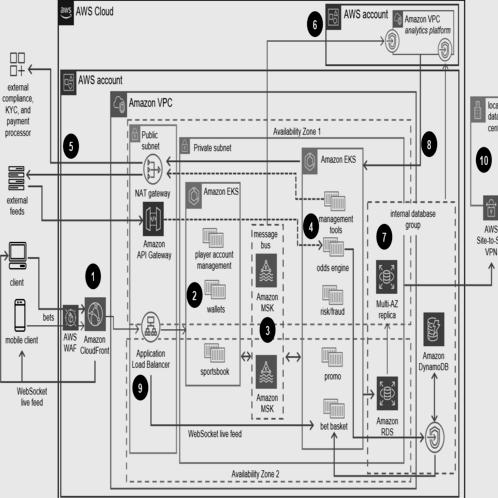actor: (0, 46, 40, 97), (0, 164, 40, 215), (0, 307, 40, 358), (0, 240, 40, 281)
api_gateway: (133, 194, 158, 236)
compute: (304, 138, 356, 446), (186, 136, 238, 418), (396, 10, 448, 62), (250, 251, 276, 292), (250, 354, 276, 394)
data_flow: (432, 98, 443, 302), (166, 425, 320, 435), (417, 71, 427, 225), (172, 210, 315, 220), (299, 46, 309, 148), (38, 210, 130, 220), (38, 159, 130, 169), (335, 425, 427, 435), (386, 276, 478, 286), (378, 300, 383, 376), (104, 317, 136, 328), (160, 317, 192, 328), (160, 210, 192, 220), (160, 159, 192, 169), (38, 317, 58, 328), (233, 266, 253, 276), (284, 266, 304, 276), (233, 369, 253, 379), (284, 369, 304, 379), (350, 384, 370, 394), (77, 317, 86, 328)
database_storage: (368, 261, 394, 302), (368, 369, 394, 410), (419, 318, 445, 358)
network_security: (133, 144, 158, 184), (133, 308, 158, 348), (475, 184, 498, 225), (82, 307, 108, 338), (58, 307, 78, 338)
trust_boundary: (56, 5, 460, 486), (59, 69, 458, 494), (104, 87, 412, 486), (148, 125, 409, 458), (122, 100, 404, 330), (122, 420, 404, 481), (123, 125, 169, 458), (356, 161, 406, 443), (242, 200, 284, 404), (322, 5, 450, 66), (468, 77, 498, 179)
